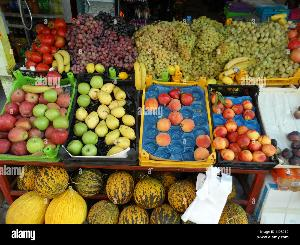apple: (0, 85, 72, 156)
grape: (139, 23, 229, 79), (68, 17, 138, 77), (230, 17, 296, 79)
peach: (140, 83, 208, 164), (214, 86, 274, 165)
pear: (70, 79, 142, 159)
tomato: (19, 17, 68, 77)
